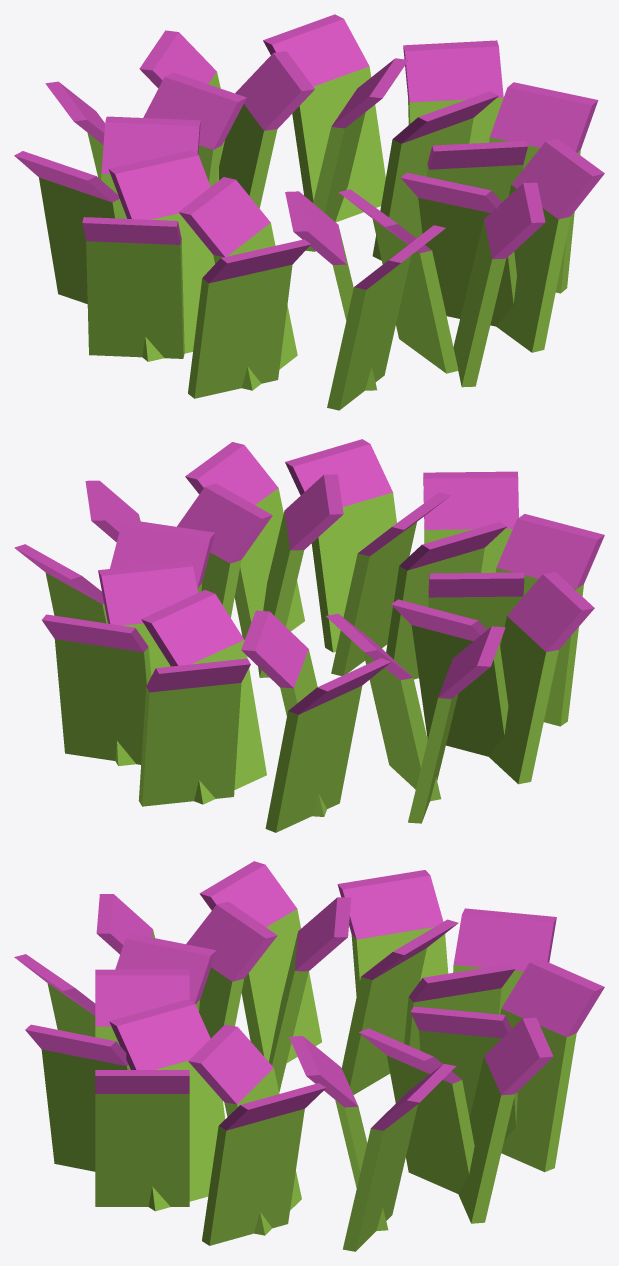
File: result.gltf
3 renders of one model, top to bottom at view 1: azimuth 30°, elevation 25°; view 2: azimuth 150°, elevation 25°; view 3: azimuth 270°, elevation 25°, orthographic.
Parts seen in each view (by area): view 1: Plant_5; view 2: Plant_5; view 3: Plant_5.
Boxes of the visible parts, bbox=[...] form: Plant_5: bbox=[14, 14, 604, 410]; Plant_5: bbox=[14, 439, 604, 832]; Plant_5: bbox=[14, 861, 604, 1251].
Size of the model in its own units: 108 by 32.64 by 109.
